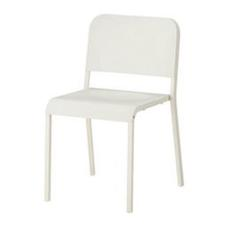chair: (28, 5, 195, 225)
